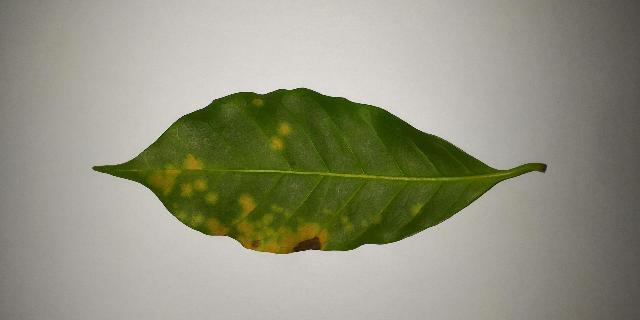miner: (232, 193, 330, 254), (150, 153, 206, 194), (270, 122, 291, 151), (182, 178, 207, 196), (207, 219, 228, 236), (272, 204, 292, 218), (341, 217, 353, 232), (191, 215, 203, 226), (412, 204, 421, 214), (207, 193, 217, 202), (178, 212, 186, 219), (254, 98, 262, 104)
